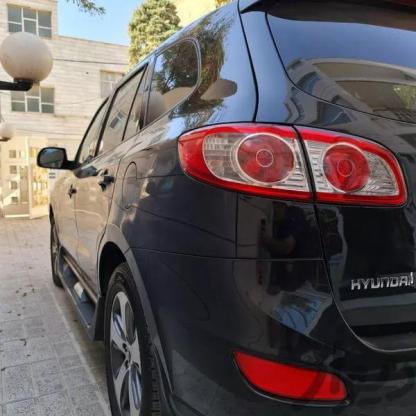Car: (46, 0, 416, 416)
